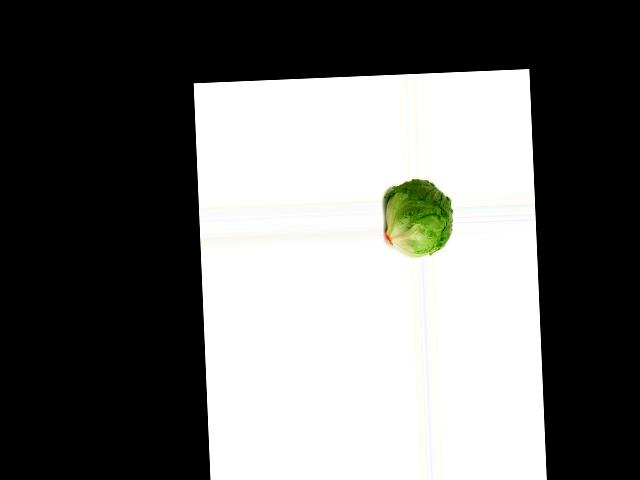lettuce: (384, 178, 454, 254)
